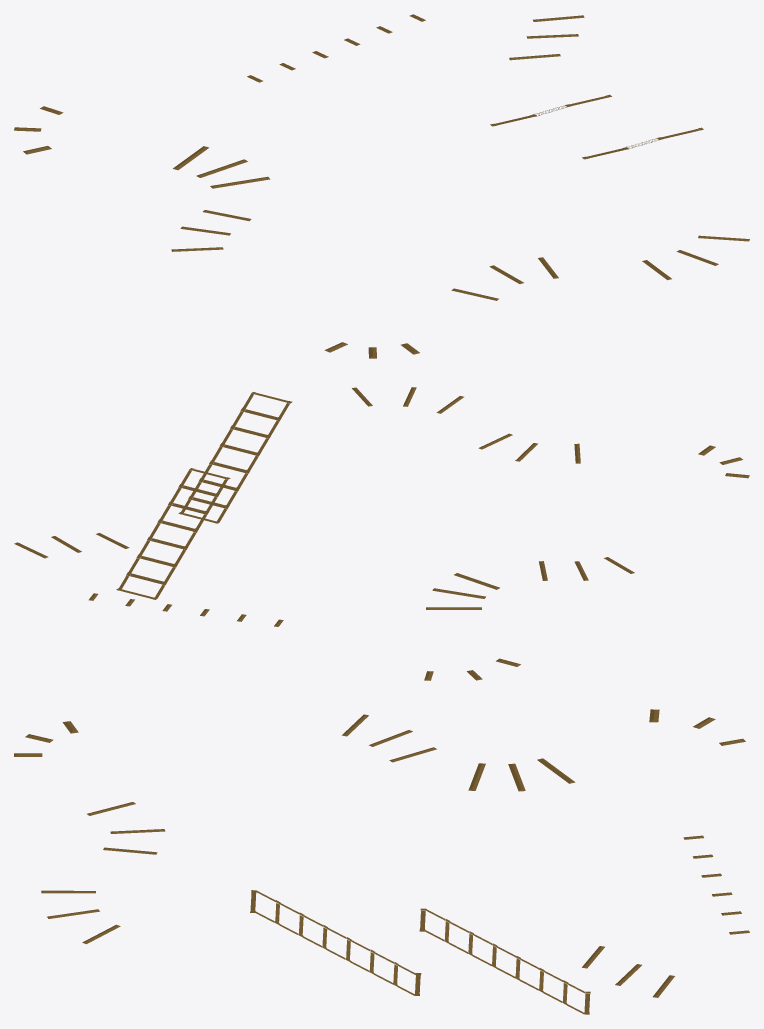
The model's file is Combined_ShadowCollisionPrefab.fbx.
3 views of the same model, one above another, from view 1: azimuth 30°, elevation 25°; view 2: azimuth 150°, elevation 25°; view 3: azimuth 270°, elevation 25° (orthographic). The views are drawn at different scales.
Visible parts, largest first — view 1: Combined_ShadowCollisionPrefab; view 2: Combined_ShadowCollisionPrefab; view 3: Combined_ShadowCollisionPrefab.
Boxes of the visible parts, x1,y1,x2,y2 form: Combined_ShadowCollisionPrefab: (14, 14, 749, 358); Combined_ShadowCollisionPrefab: (14, 387, 749, 680); Combined_ShadowCollisionPrefab: (14, 709, 749, 1014).
Bounding box in the file's own units: 337 × 57.69 × 363.
